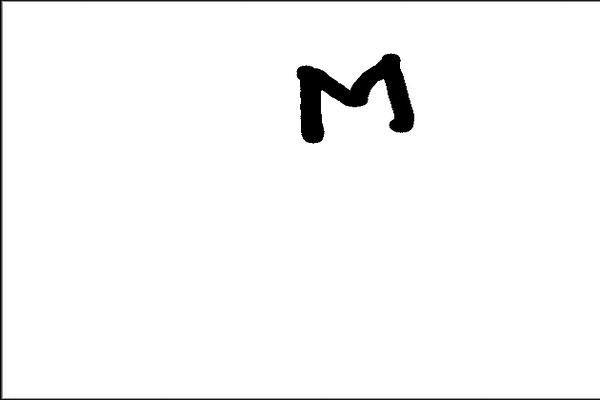M: (288, 52, 419, 140)
